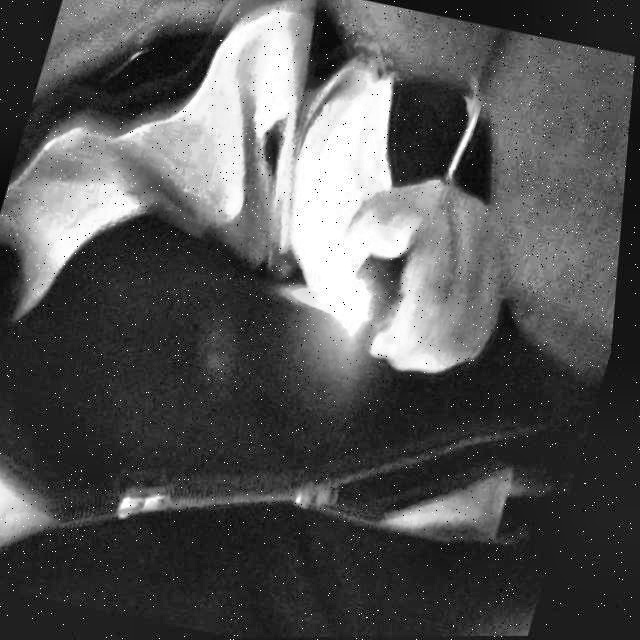Fire: (280, 276, 373, 322)
